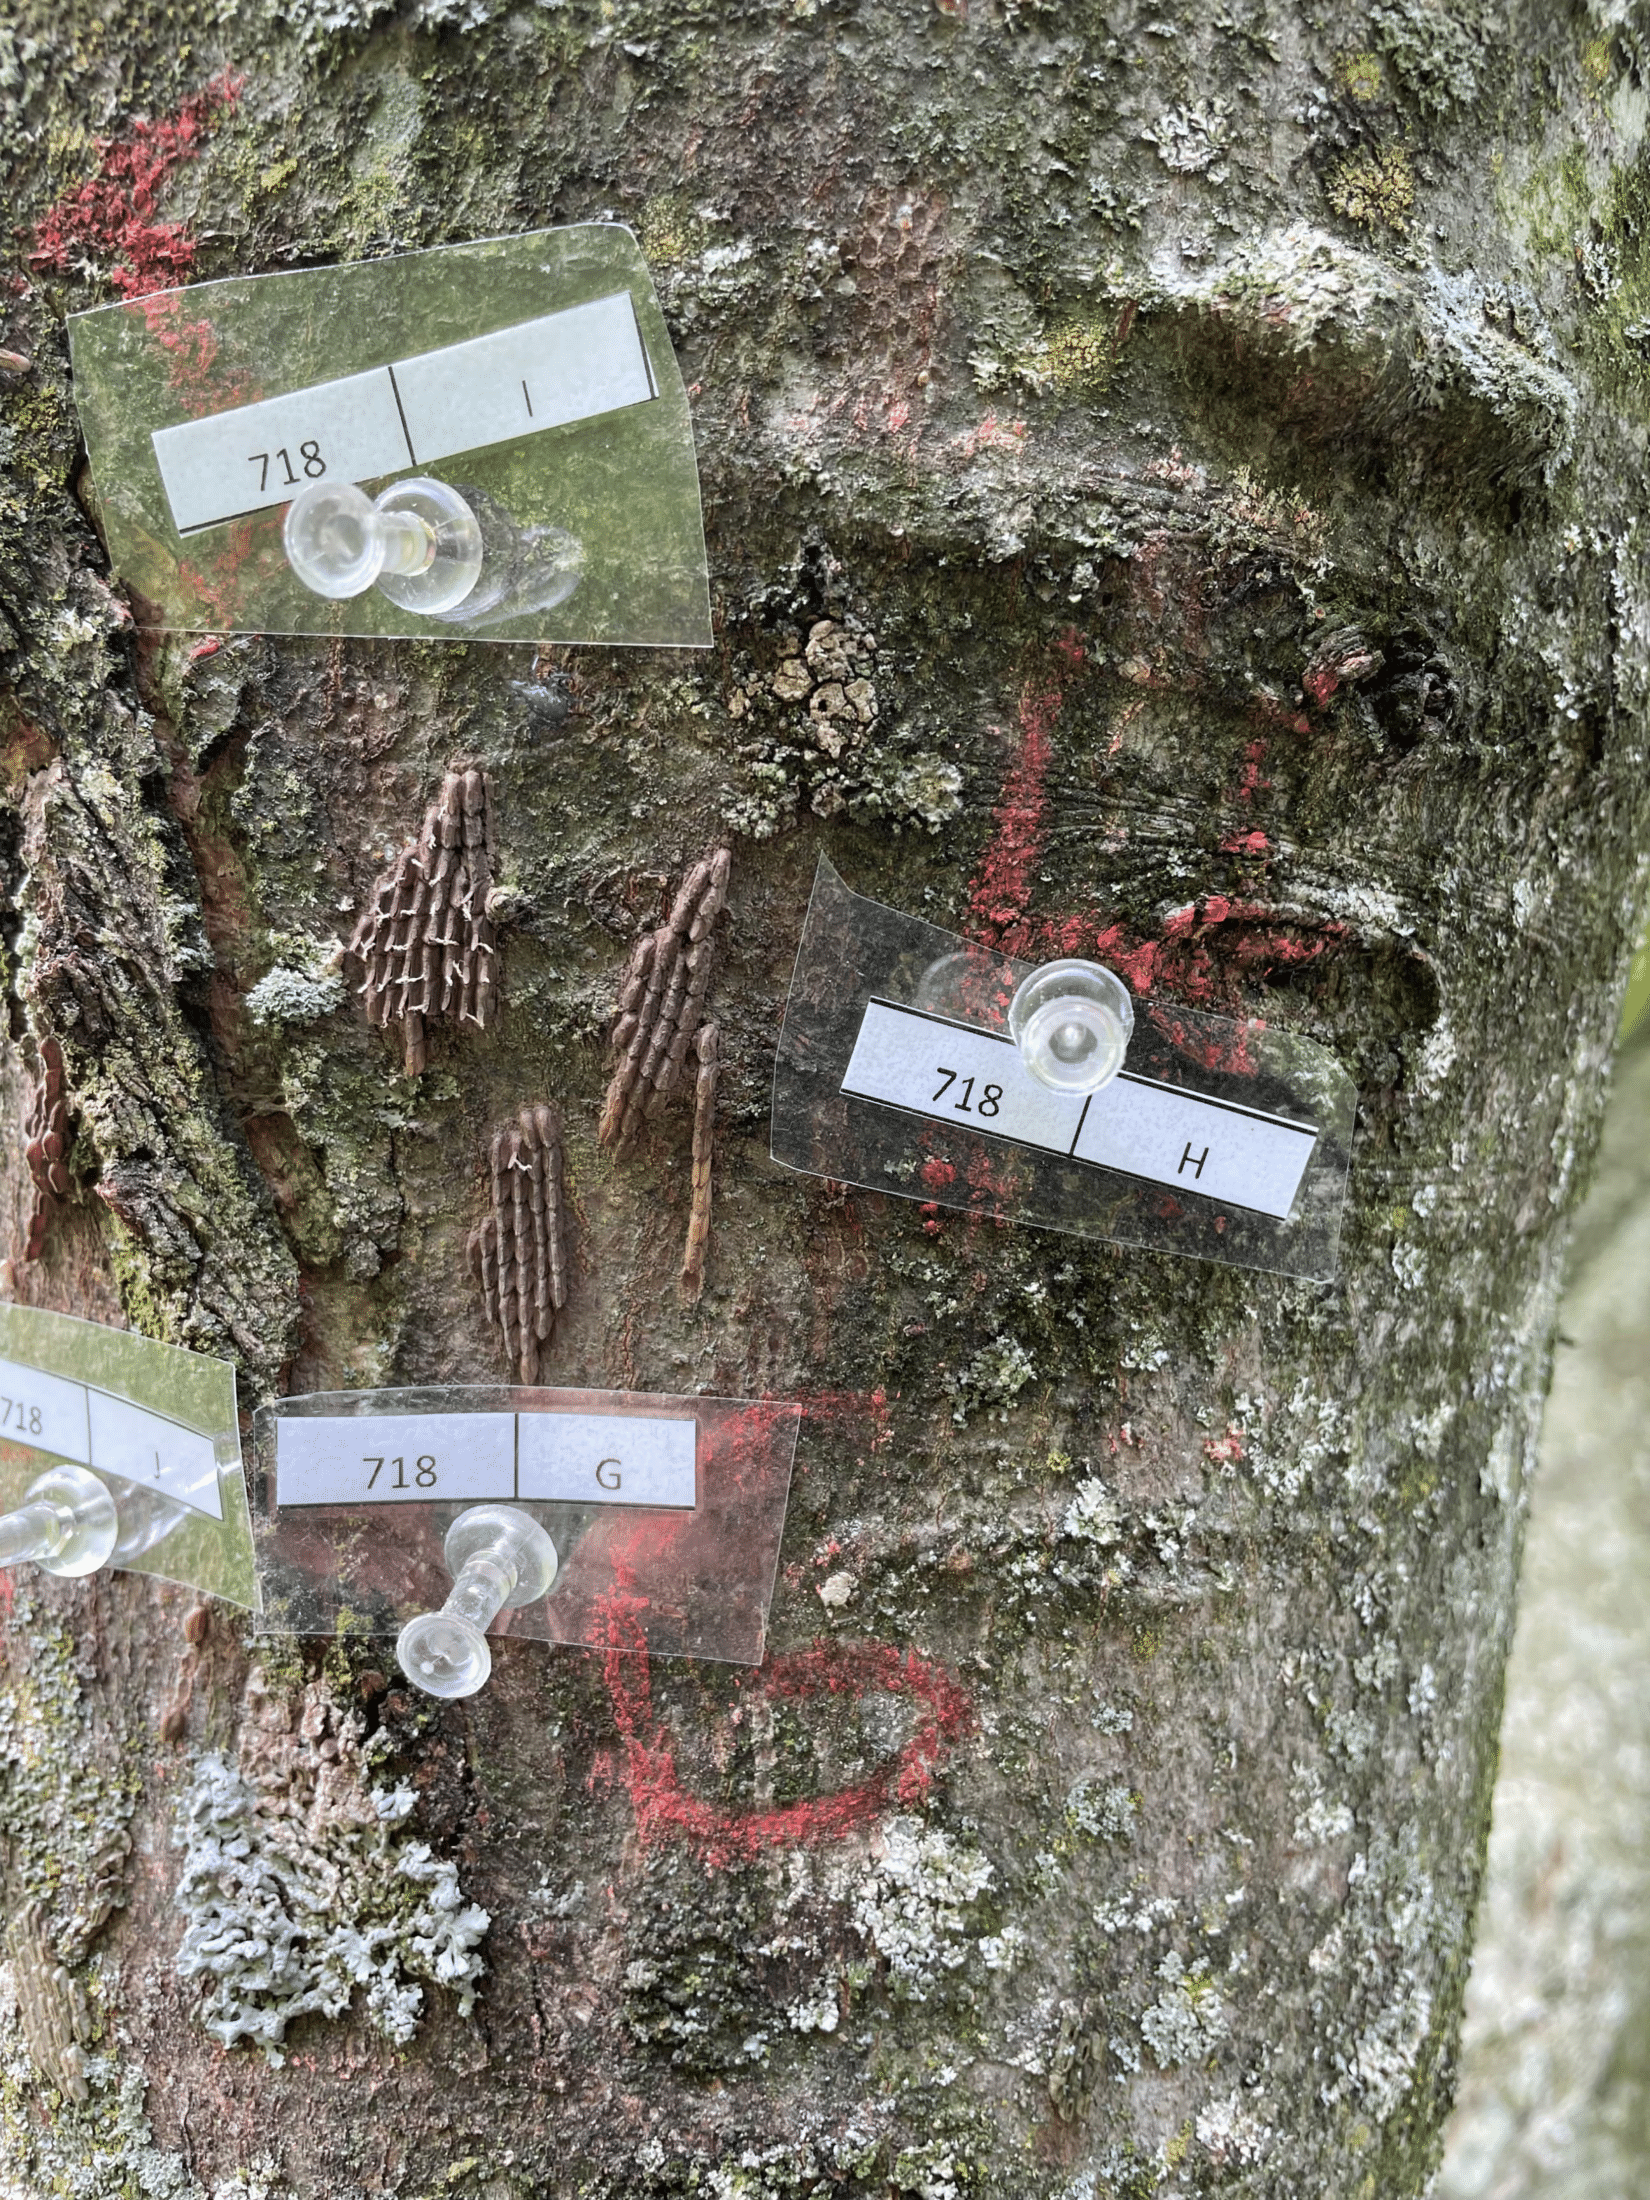egg masses: (288, 766, 551, 1102), (589, 821, 756, 1304), (456, 1112, 581, 1381)
